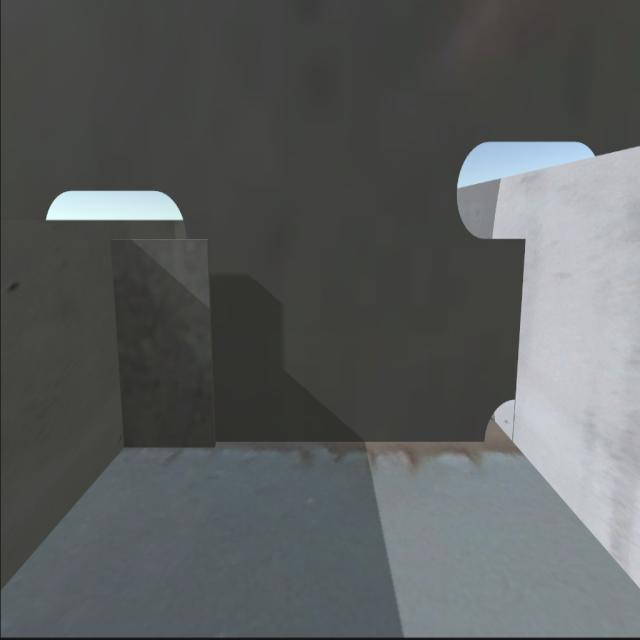fillet_hole: (478, 391, 520, 450)
fillet_yong_jeop_jang: (119, 434, 484, 453)
longi_yong_jeop_jang: (104, 239, 133, 448), (512, 238, 534, 396)
plate_CP01: (109, 235, 219, 448)
